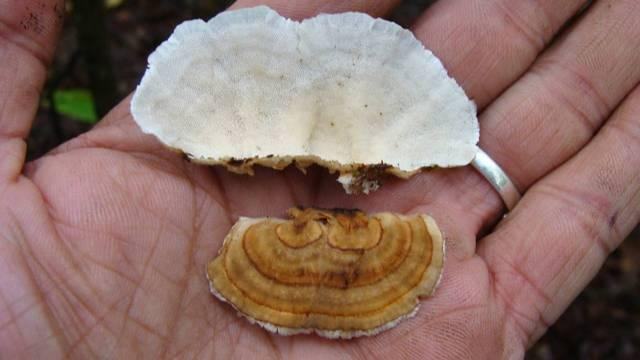poisonous_mushroom: (117, 13, 480, 197), (204, 204, 446, 339)
